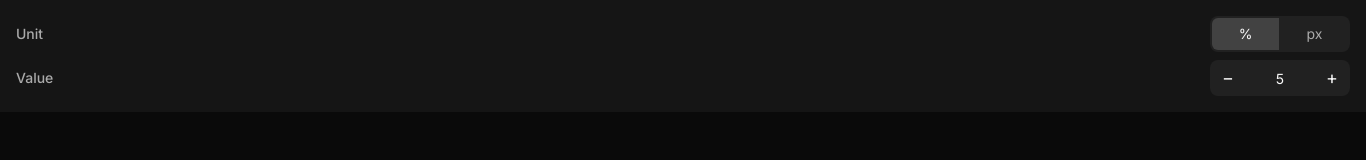
Test: StepperInput › increments value when increment button is clicked
This screenshot has width=1366, height=160.
What coordinates should you click on to do the following:
click the button named "Increase value"
I would click on:
 (1332, 78)
Its box is [1314, 60, 1350, 96].
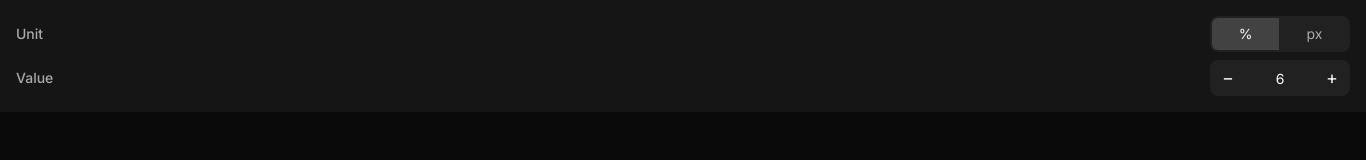
Expected: the number field holds "6", [1246, 60, 1314, 96]
